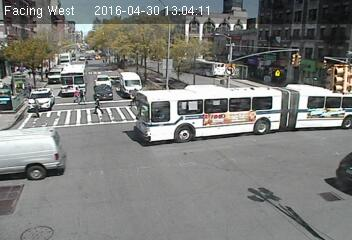neg: (122, 117, 143, 144), (211, 89, 231, 115), (170, 118, 188, 142), (281, 49, 296, 70), (228, 17, 242, 36), (197, 23, 210, 41), (173, 61, 186, 78), (129, 55, 142, 72), (109, 56, 121, 72), (220, 66, 231, 80), (292, 25, 302, 38), (267, 65, 276, 78)
pos: (90, 93, 106, 115), (128, 86, 144, 107), (28, 97, 44, 118), (75, 87, 89, 106), (43, 68, 52, 80), (25, 69, 33, 80)
